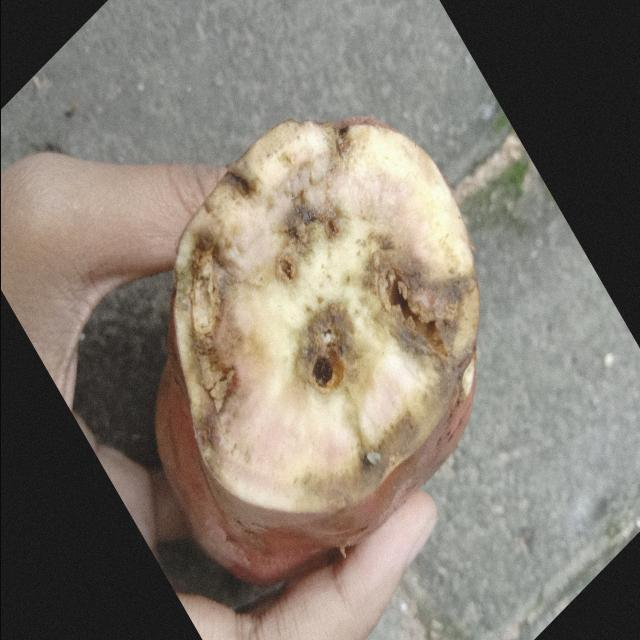Sick Sweet Potato_Tuber Rot: (172, 120, 479, 545)
